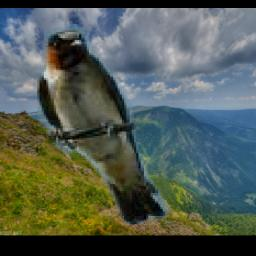Swallow: (36, 24, 171, 225)
